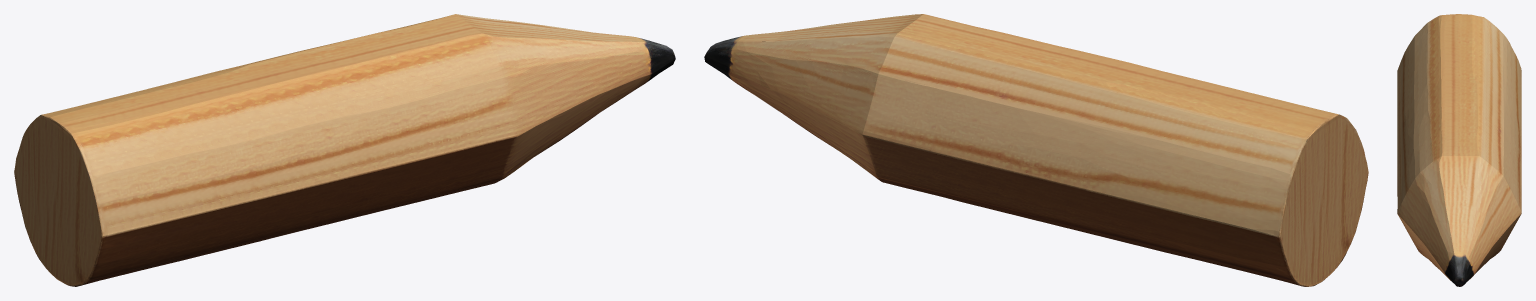
The model's file is wooden-pencil-3d.jpeg.glb.
3 views of the same model, side by side, from view 1: azimuth 30°, elevation 25°; view 2: azimuth 150°, elevation 25°; view 3: azimuth 270°, elevation 25° (orthographic). The views are drawn at different scales.
Visible parts, largest first — view 1: world; view 2: world; view 3: world.
Part boxes in pixels (left/top/right/bottom): world: left=14, top=14, right=675, bottom=286; world: left=704, top=14, right=1368, bottom=286; world: left=1397, top=14, right=1521, bottom=286.
Bounding box in the file's own units: 1 × 0.2456 × 0.2507.
1 material, 1 textured.
